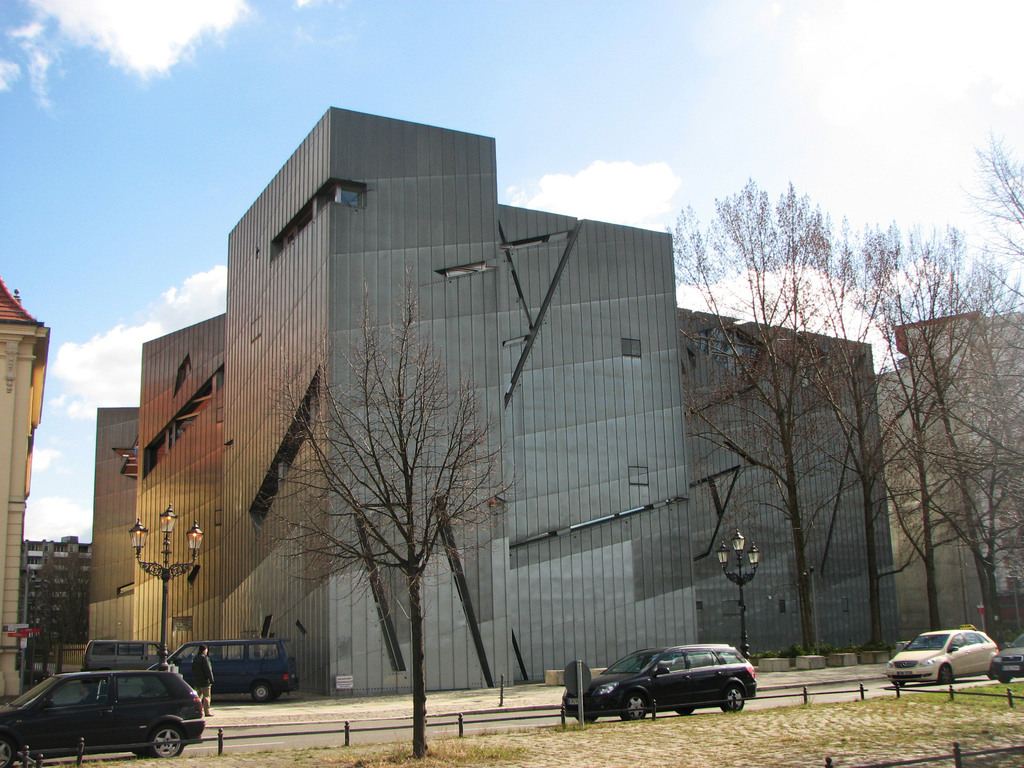Car: (0, 669, 206, 767), (561, 643, 755, 722), (882, 624, 997, 685), (992, 635, 1023, 685)
